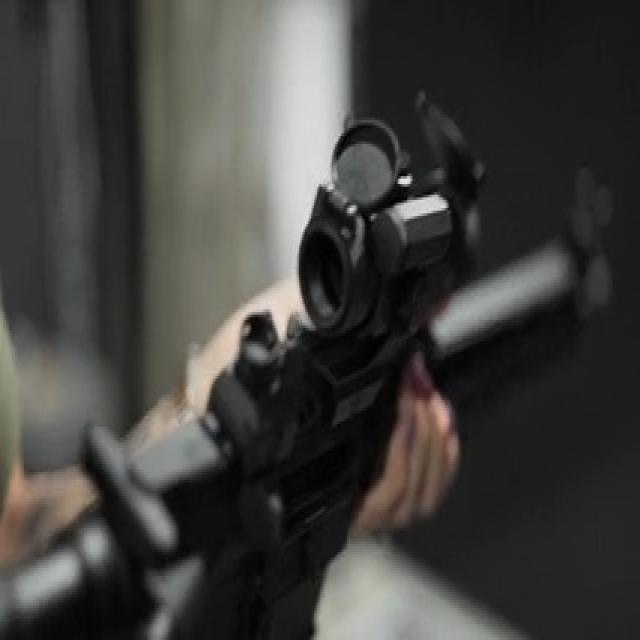Gun_Holder: (23, 53, 586, 640)
